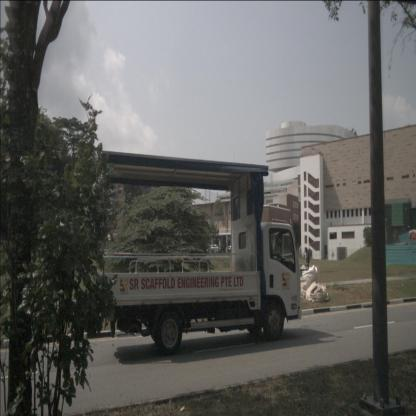vehicle-car: (208, 244, 222, 254)
vehicle-truck: (98, 151, 301, 356)
